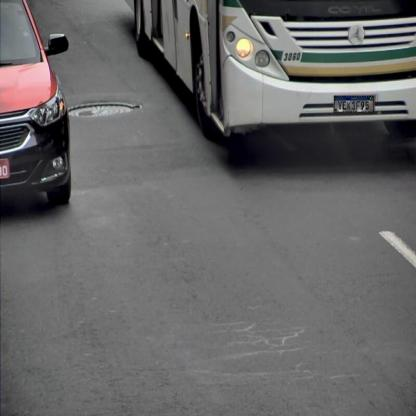PlacaM: (334, 96, 374, 112)
